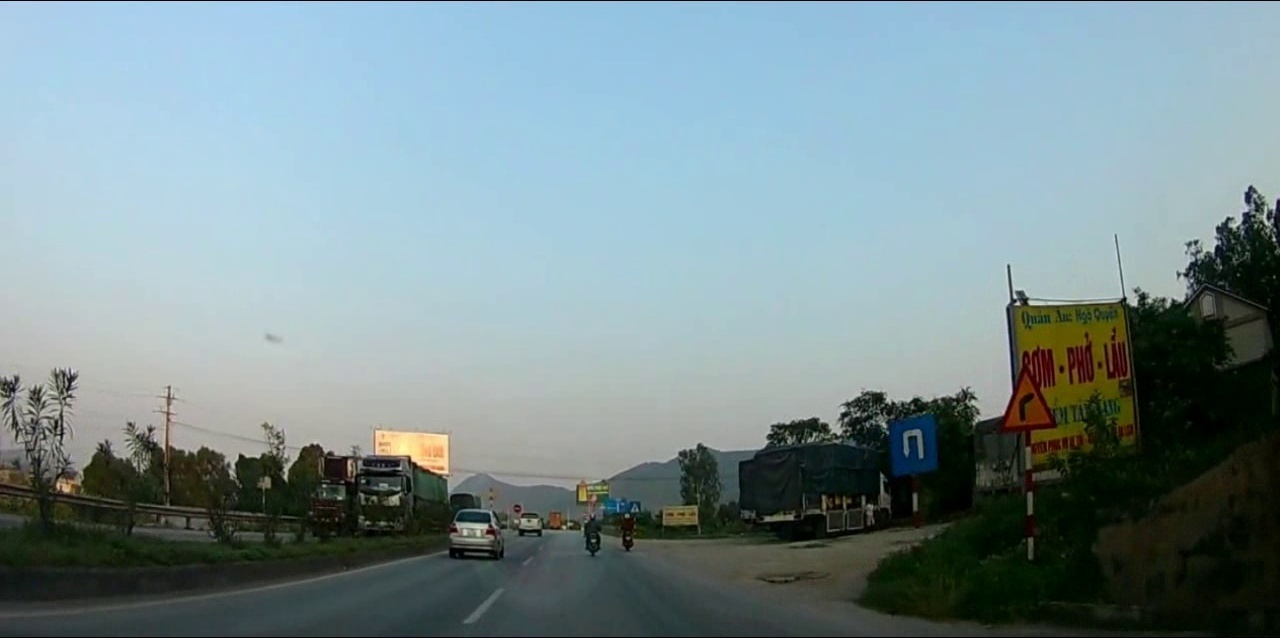Bien khac: (998, 364, 1058, 427), (887, 418, 939, 476)
Cam di nguoc chieu: (510, 499, 525, 516)
Nguoi di bo: (626, 499, 640, 514)
